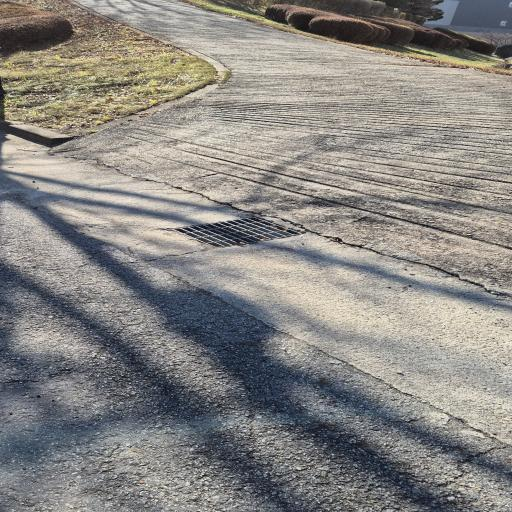drain: (171, 217, 299, 247)
